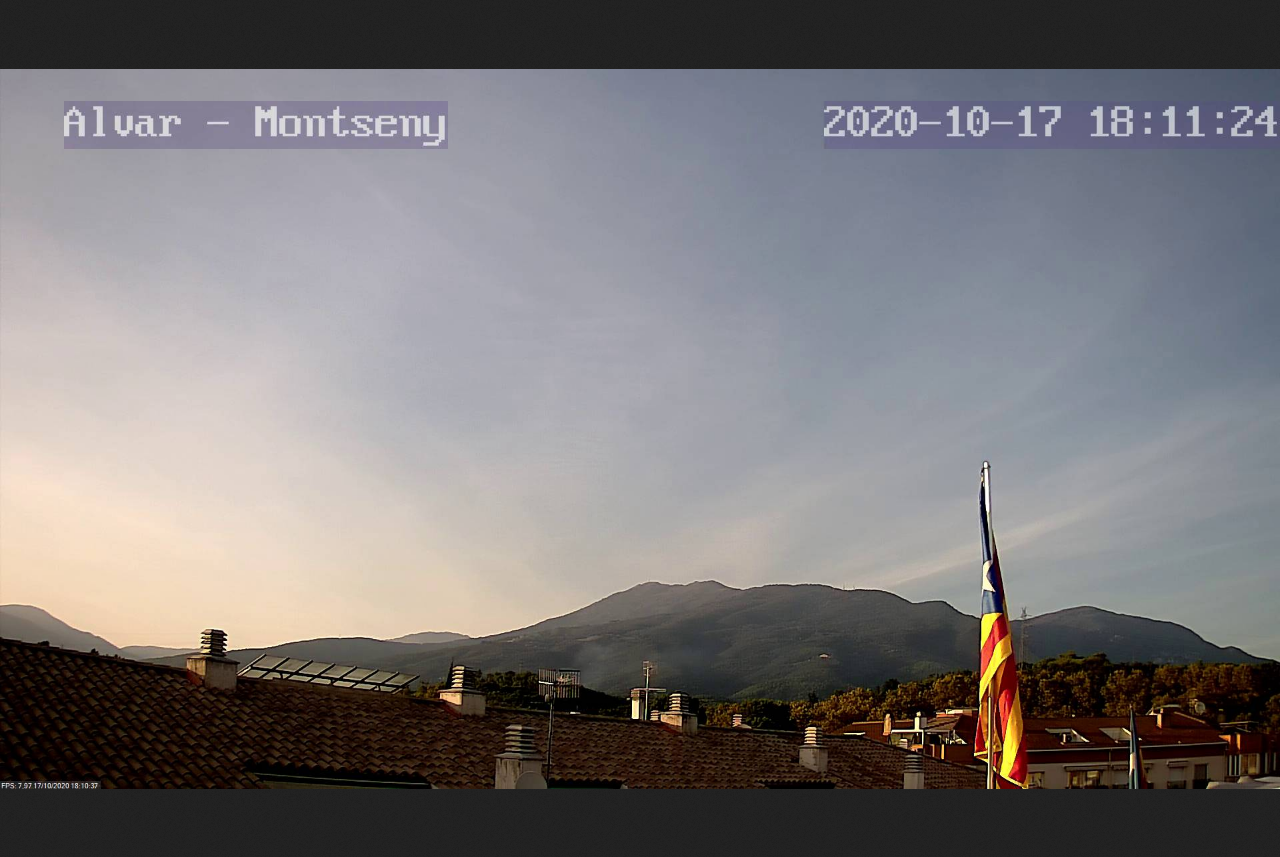no: (968, 473, 1037, 788)
